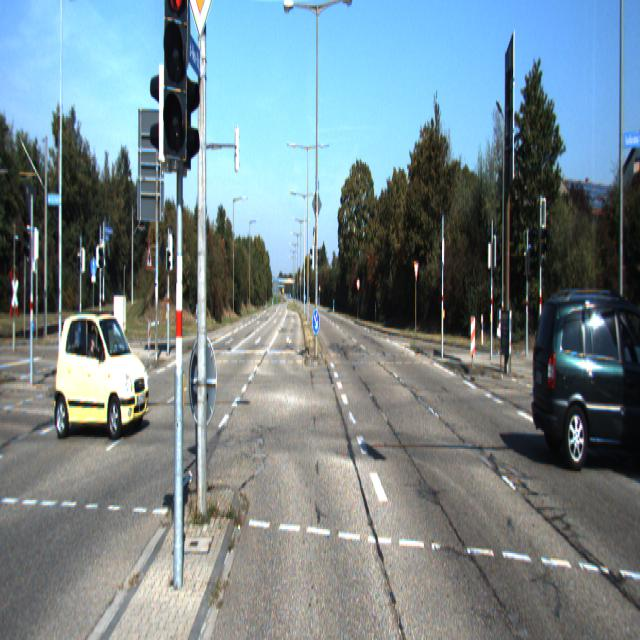Car: (526, 279, 640, 477), (51, 304, 152, 437)
